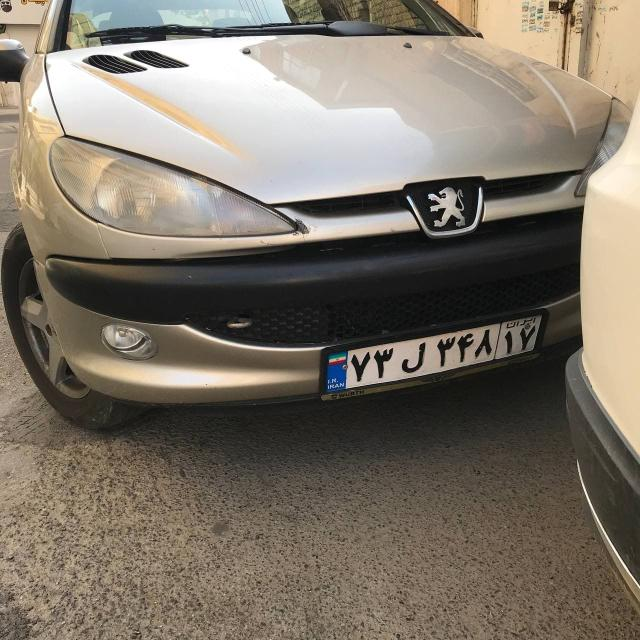Plates: (318, 308, 549, 394)
